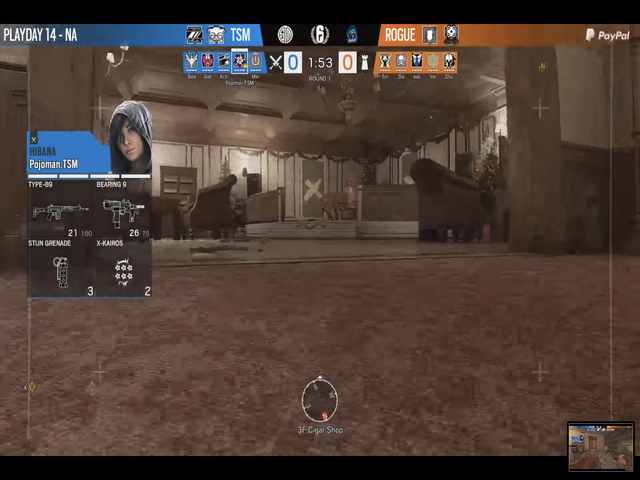0_blue: (284, 51, 303, 69)
